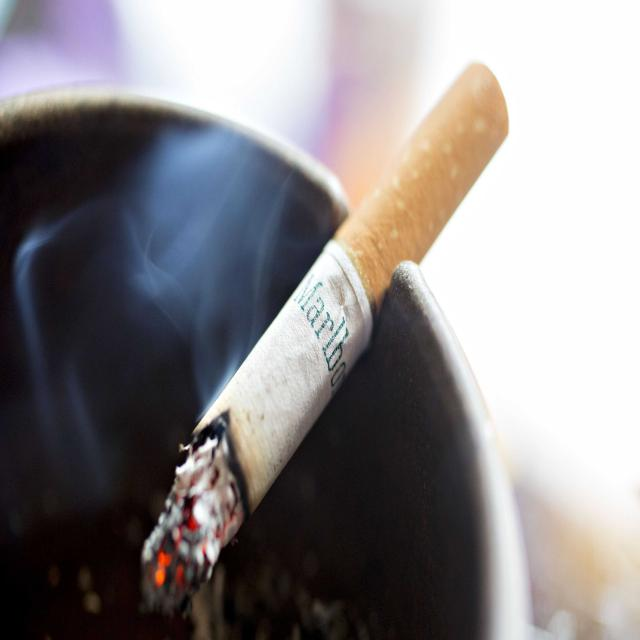Smooking: (124, 48, 540, 618)
